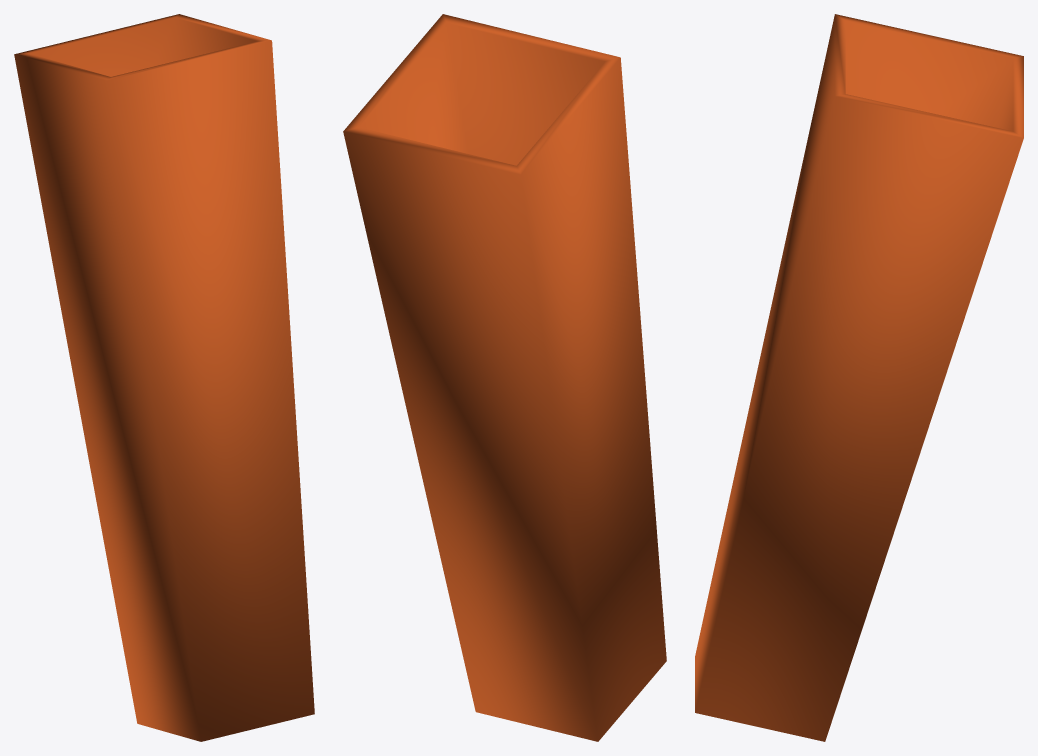
Rendered from sadak.fbx.
The picture shows the model from 3 angles, left to right: view 1: azimuth 30°, elevation 25°; view 2: azimuth 150°, elevation 25°; view 3: azimuth 270°, elevation 25°; orthographic projection. The views are drawn at different scales.
Visible parts, largest first — view 1: sadak; view 2: sadak; view 3: sadak.
Part boxes in pixels (box(x1,y1,x2,y2)): sadak: box(14, 14, 314, 741); sadak: box(343, 14, 666, 741); sadak: box(695, 14, 1023, 741).
Size of the model in its own units: 143 by 533 by 241.
